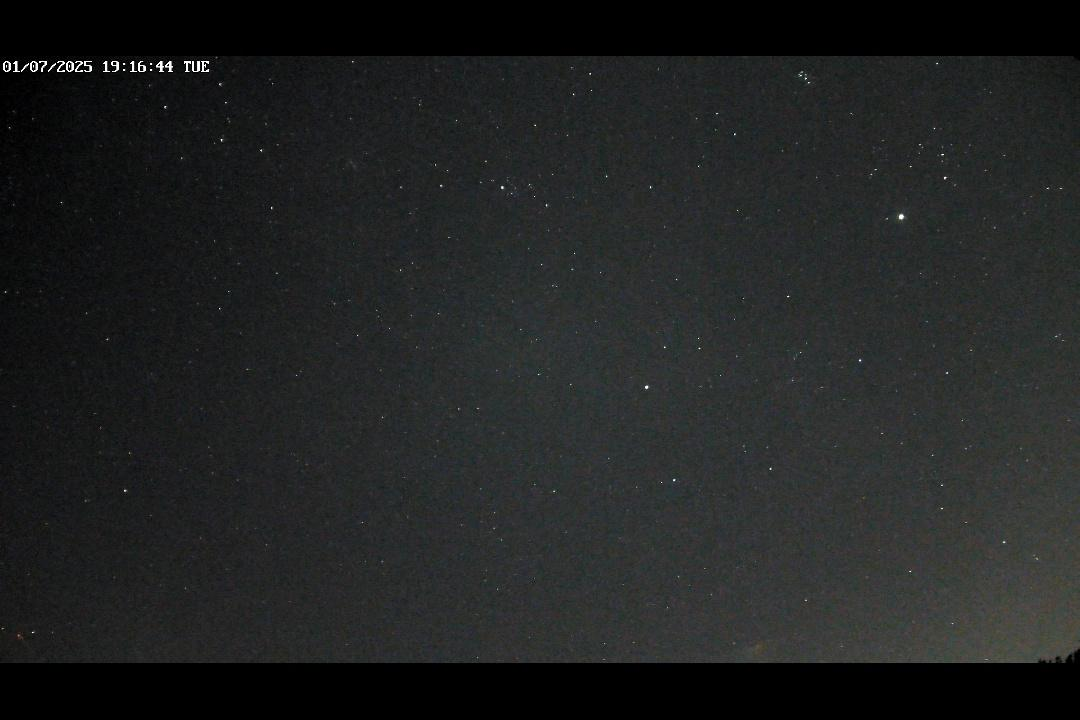Plane: (14, 630, 33, 653)
